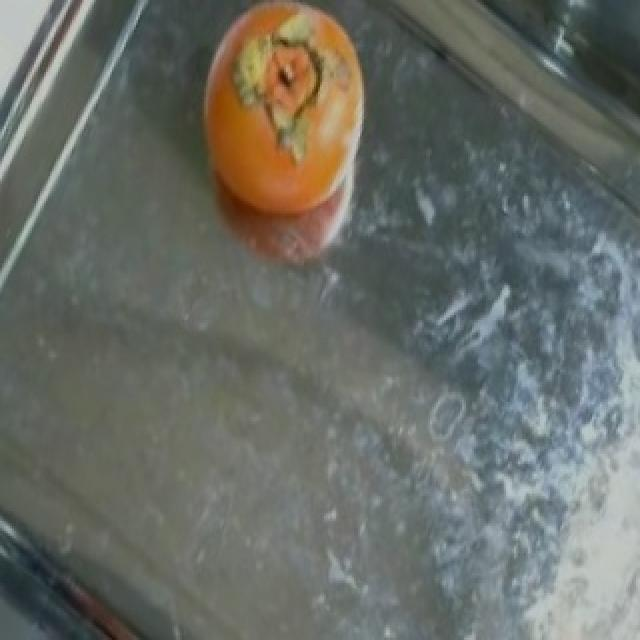Fruit: (172, 0, 398, 293)
